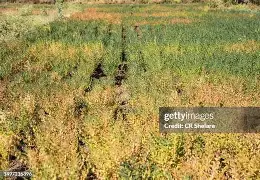crops: (0, 0, 257, 177), (162, 130, 260, 177), (162, 12, 260, 53), (66, 82, 134, 127), (0, 27, 54, 81), (26, 126, 80, 178), (173, 77, 258, 109), (191, 45, 260, 79), (116, 135, 166, 179), (44, 16, 121, 44), (0, 86, 45, 129), (0, 0, 61, 22), (173, 0, 255, 10), (186, 135, 206, 156)
